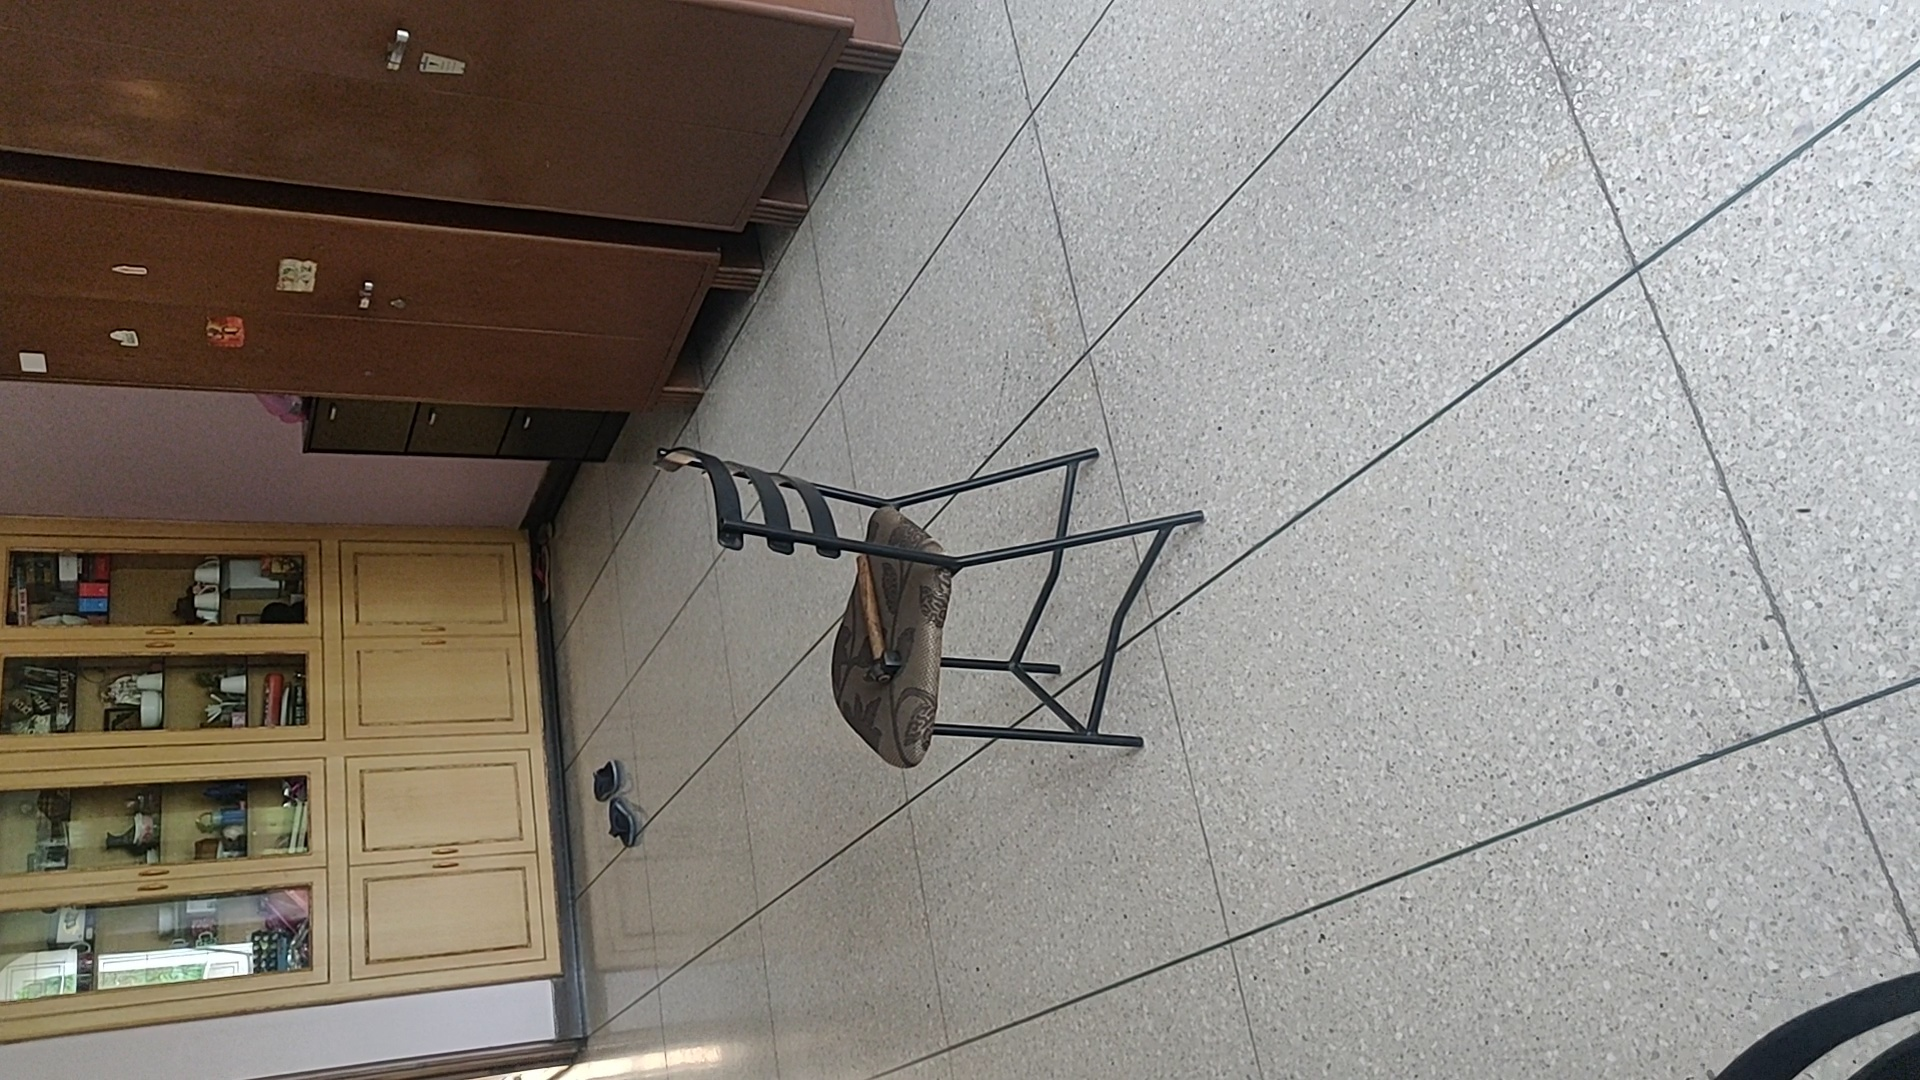hammer: (851, 555, 899, 686)
